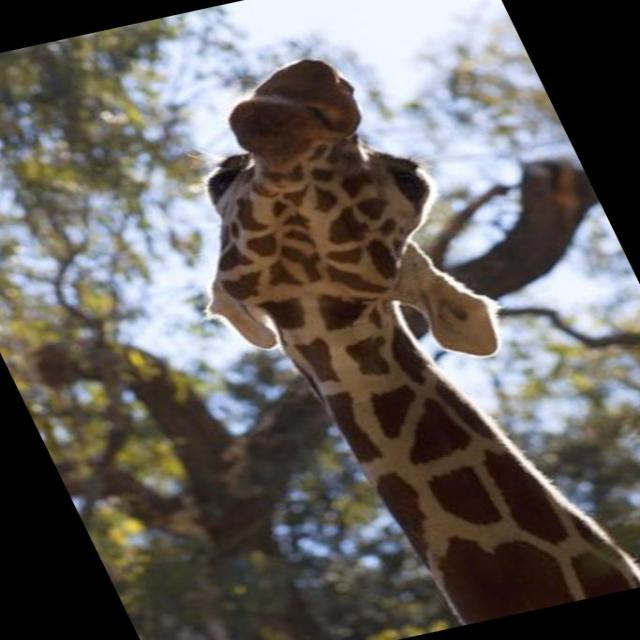Giraffe: (176, 54, 640, 618)
